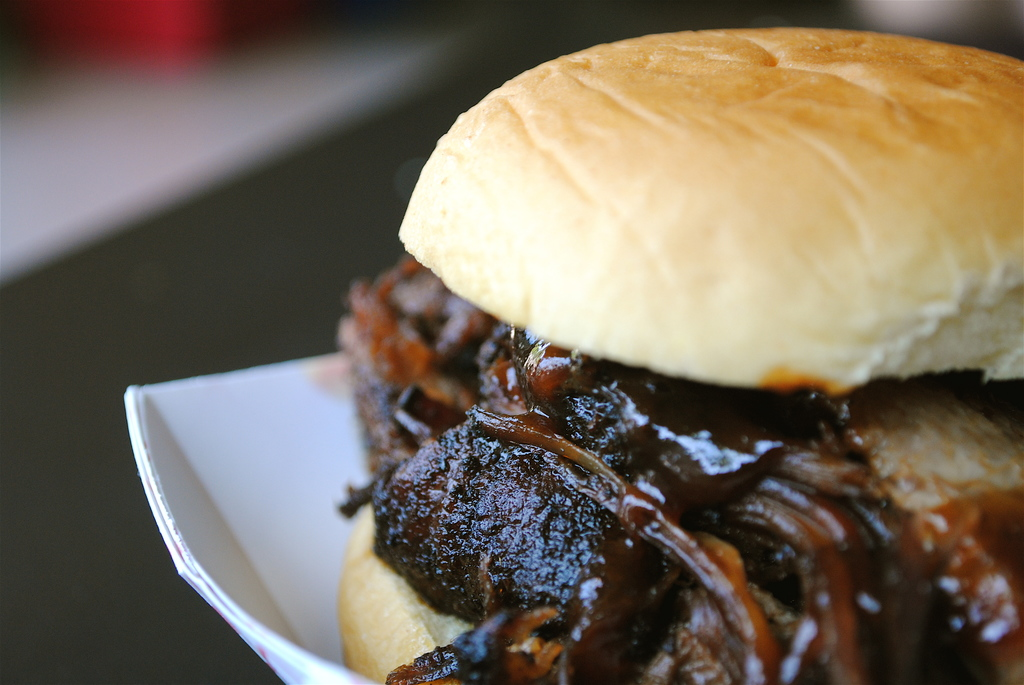Hamburger: (328, 27, 1023, 684)
